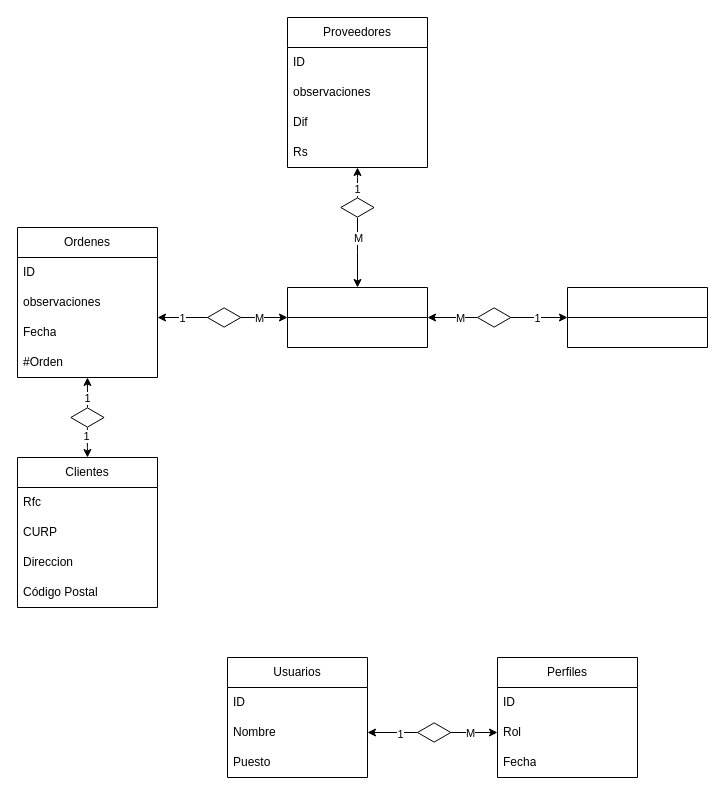
This 725x795 diagram has some shape labels left out. Each missing label, with the centre of its shape:
"Almacen" goes at (x=637, y=317).
"Productos" goes at (x=357, y=317).
